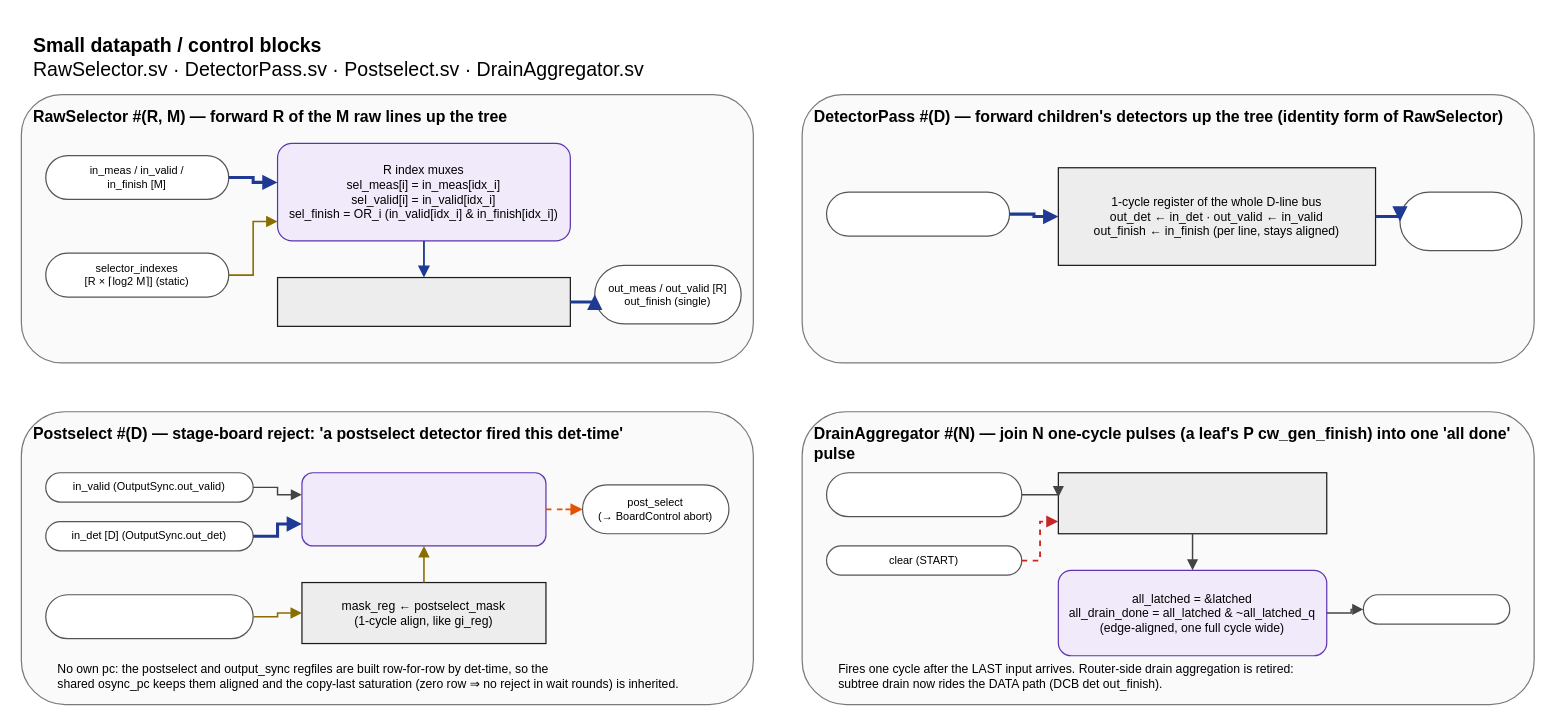
Image size: 1556x726. Some labels were removed from this diagram. The shapes that lost their labels are listed below. From the top down, each one's centre as x and y in pixels, then its label:
At (x=917, y=213): "in_det / in_valid / in_finish [D]".
At (x=1460, y=221): "out_det / out_valid / out_finish [D]".
At (x=423, y=301): "1-cycle register".
At (x=423, y=509): "post_select = in_valid & |(mask_reg & in_det)".
At (x=923, y=494): "drain_done_in [N] (pulses, different cycles)".
At (x=1192, y=503): "latched ← latched | drain_done_in (cleared by clear / rst)".
At (x=149, y=616): "postselect_mask [D] (ps regfile @ shared osync_pc)".
At (x=1436, y=609): "all_drain_done".
